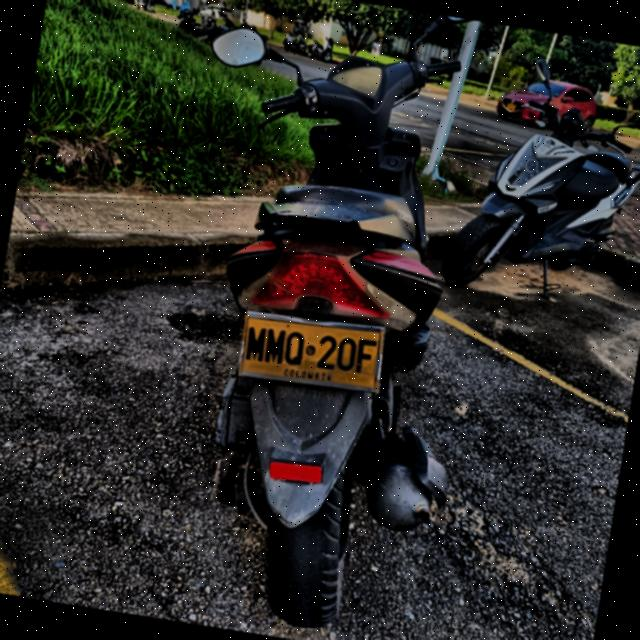0: (336, 336, 358, 373)
2: (316, 335, 338, 371)
F: (355, 338, 378, 375)
M: (245, 326, 268, 363), (264, 328, 286, 364)
Q: (283, 330, 306, 367)
